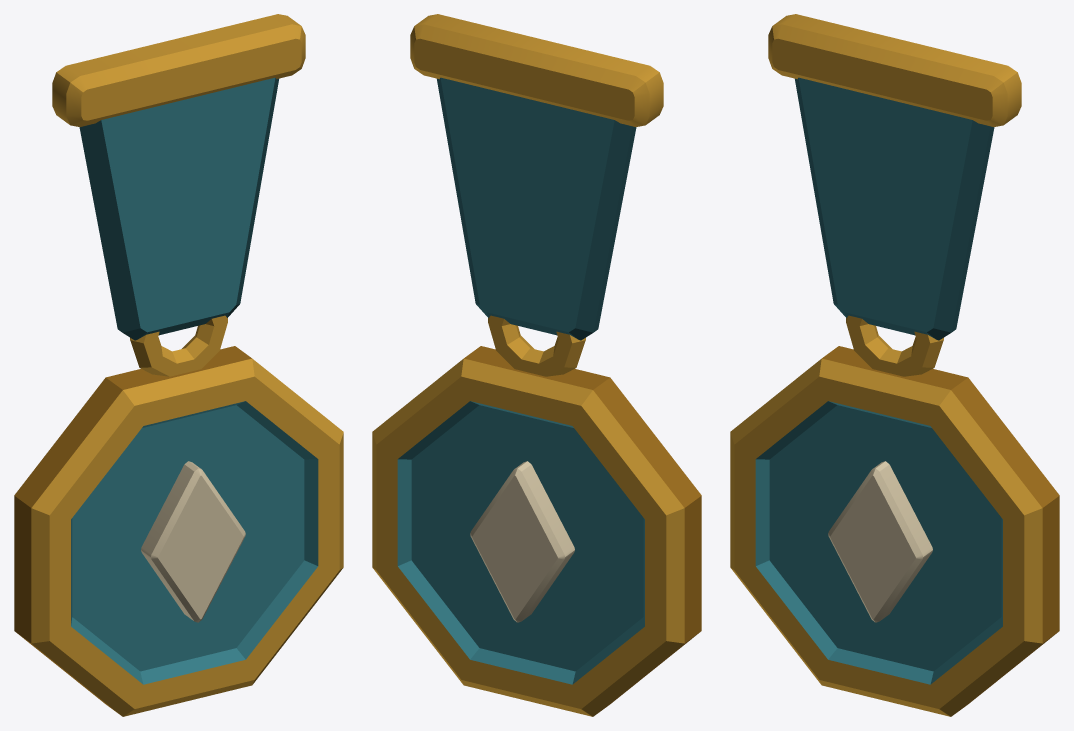
File: Medal_06.glb
3 renders of one model, left to right at view 1: azimuth 30°, elevation 25°; view 2: azimuth 150°, elevation 25°; view 3: azimuth 330°, elevation 25°, orthographic.
Parts seen in each view (by area): view 1: Medal_06; view 2: Medal_06; view 3: Medal_06.
Boxes of the visible parts, bbox=[...] form: Medal_06: bbox=[14, 14, 343, 716]; Medal_06: bbox=[372, 14, 701, 716]; Medal_06: bbox=[730, 14, 1059, 716].
Size of the model in its own units: 1.15 by 2.29 by 0.28.
